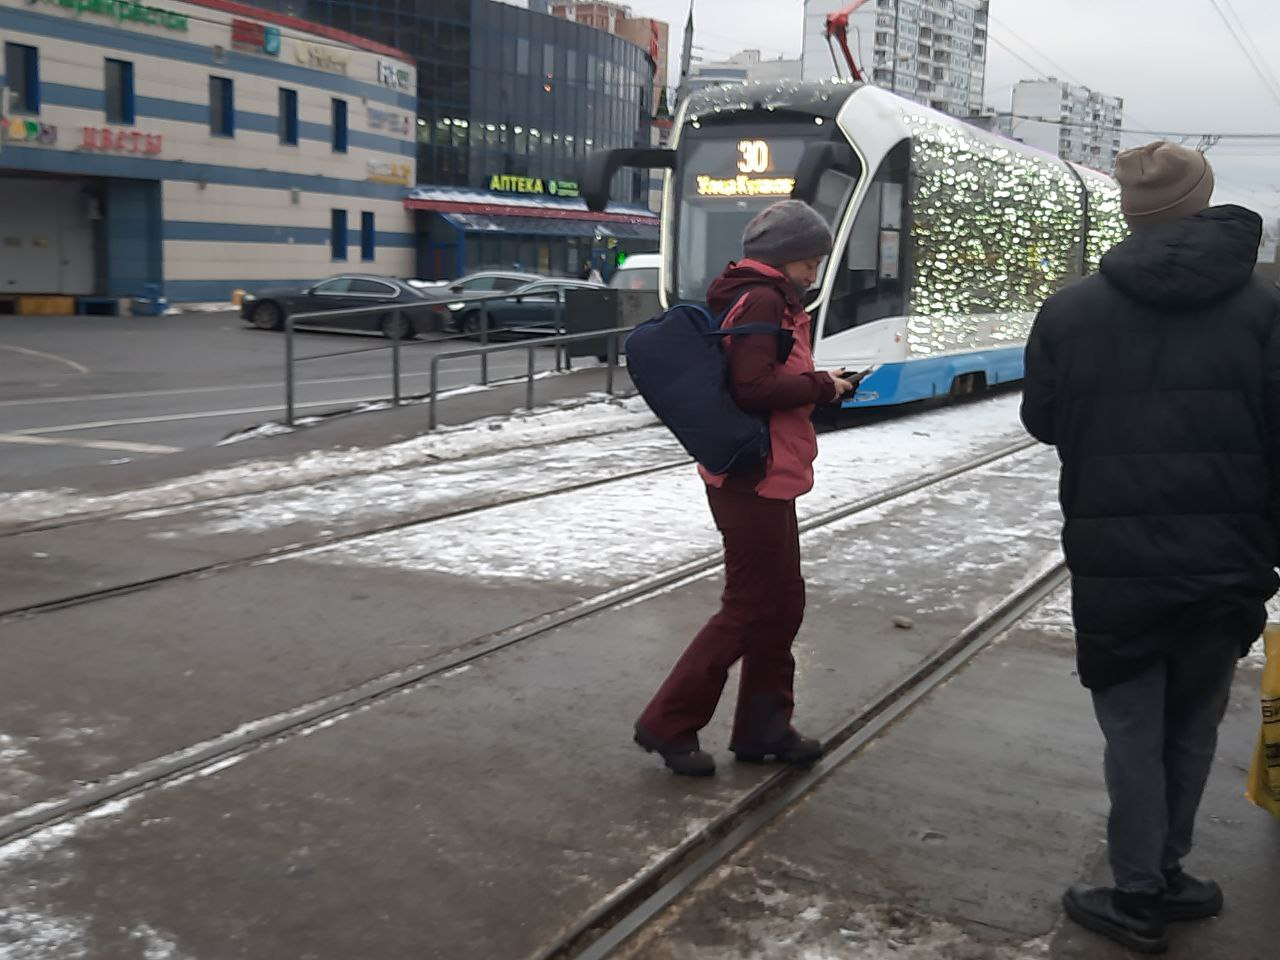sombie: (623, 144, 902, 786)
